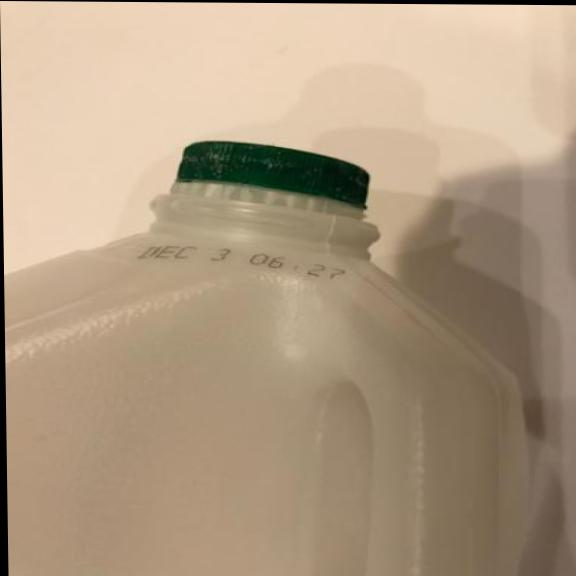Plastik: (2, 114, 532, 575), (3, 135, 529, 576)
